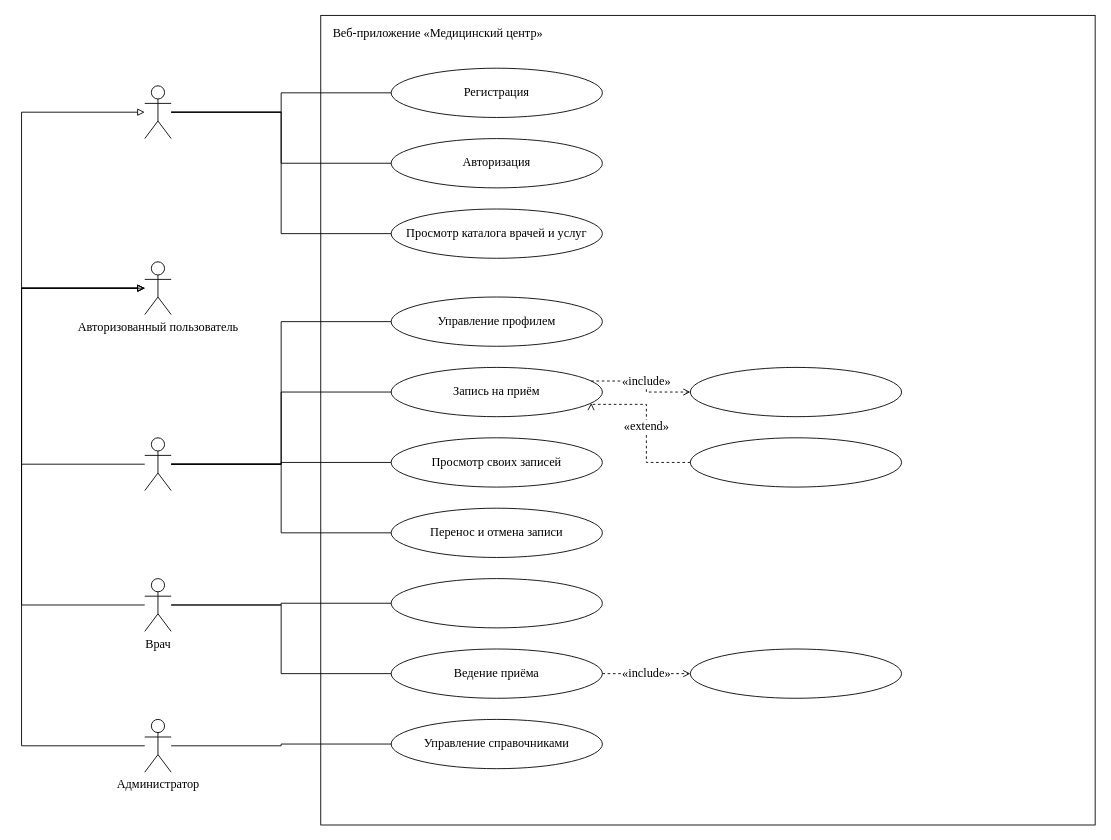
Some shapes in this 1111 by 840 pixel diagram are drawn without their labels. Here are the shapes that lost their labels. From the top down, the box of each, then its label:
(144, 85, 171, 139): Гость
(689, 367, 902, 417): Выбор свободного слота
(144, 437, 171, 491): Пациент
(689, 437, 902, 487): Повторная запись
(390, 578, 602, 628): Ведение расписания
(689, 648, 902, 698): Постановка диагноза (МКБ-10)
